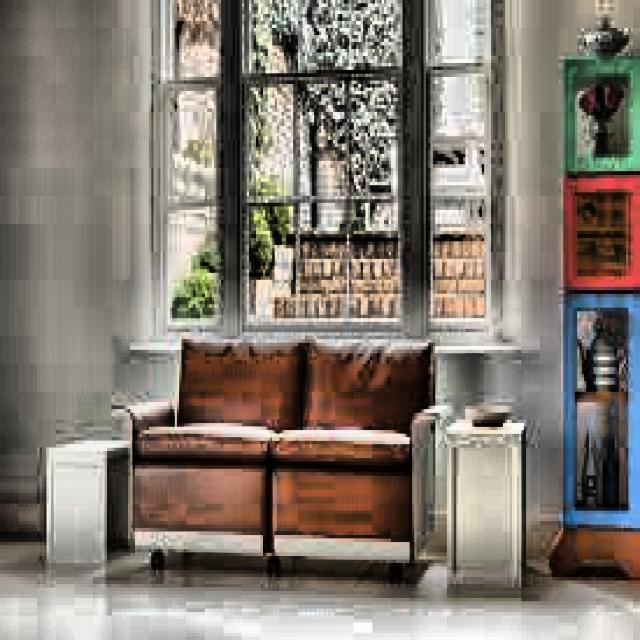sofa: (130, 332, 444, 567)
